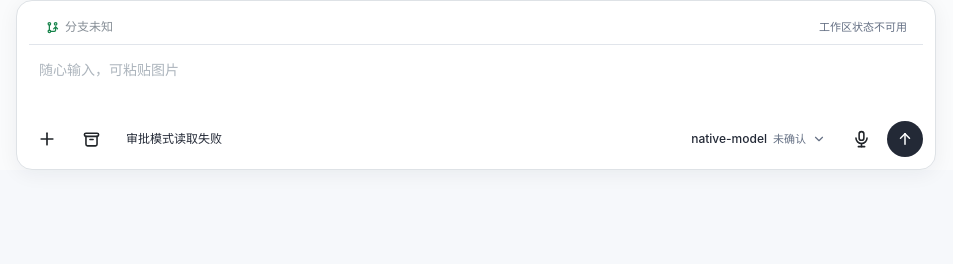
keeps the composer intact when saving a stashed draft fails
The width and height of the screenshot is (953, 264).
Type "不能丢的内容" into the text box named "消息内容" at (476, 81), box [29, 51, 923, 111]
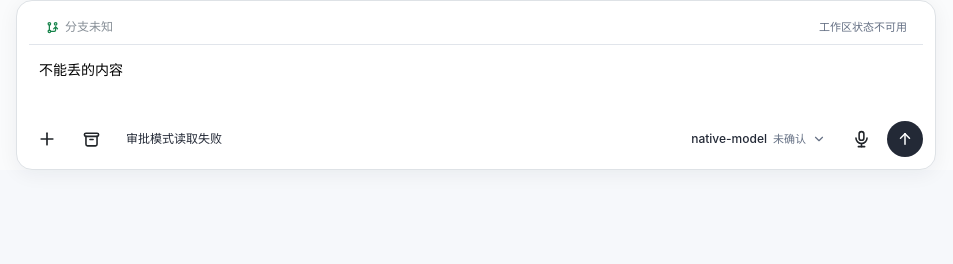
Click the button named "草稿箱" at (91, 139), box [73, 121, 109, 157]
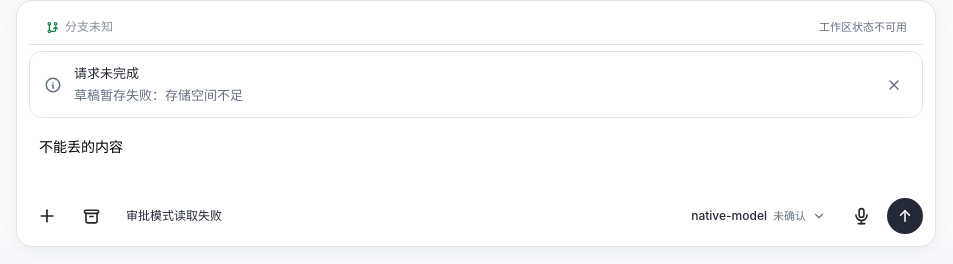
Expected: the text "草稿暂存失败：存储空间不足" is shown, [74, 86, 243, 102]
